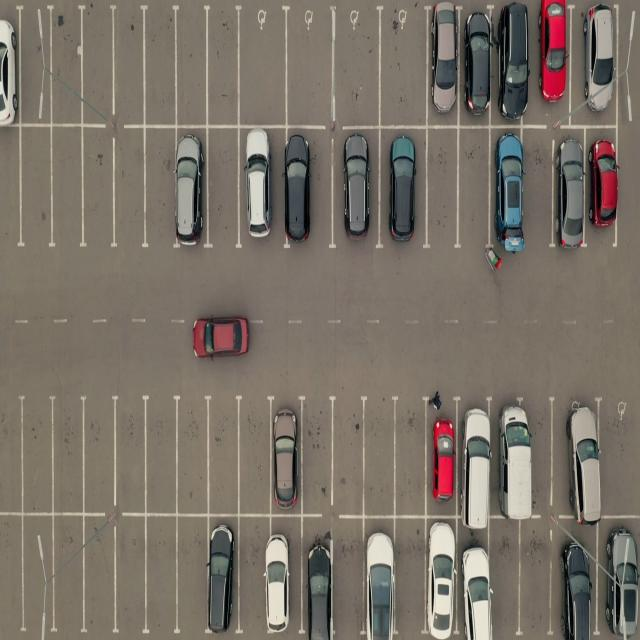space-empty: (238, 9, 289, 126), (287, 10, 337, 127), (377, 7, 425, 128), (334, 8, 381, 126), (45, 516, 87, 633), (46, 6, 86, 126), (48, 128, 86, 251), (142, 6, 180, 127), (15, 127, 52, 251), (601, 402, 640, 518), (113, 5, 150, 126), (78, 394, 116, 511), (175, 7, 212, 127), (205, 7, 242, 127), (112, 131, 149, 251), (458, 128, 494, 251), (16, 399, 54, 515), (112, 394, 150, 510), (78, 132, 115, 251), (77, 5, 114, 124), (17, 515, 54, 633), (141, 130, 177, 251), (143, 394, 180, 511), (49, 399, 86, 515), (177, 396, 214, 512), (206, 128, 242, 247), (330, 397, 367, 512), (79, 515, 115, 633), (176, 516, 212, 634), (393, 398, 429, 515), (142, 517, 178, 633), (239, 396, 275, 512), (235, 397, 271, 513), (359, 399, 395, 514), (520, 522, 556, 637), (297, 398, 333, 511), (396, 519, 430, 638), (205, 397, 240, 512), (424, 126, 457, 246), (114, 517, 148, 633), (302, 398, 337, 510), (15, 8, 48, 124), (488, 519, 520, 636), (525, 126, 555, 248), (0, 395, 24, 515), (0, 515, 24, 635), (0, 127, 22, 251)
space-occupied: (552, 396, 600, 519), (282, 130, 331, 250), (488, 128, 535, 251), (254, 513, 300, 636), (491, 398, 537, 520), (382, 124, 428, 243), (237, 124, 282, 245), (333, 130, 379, 248), (378, 130, 424, 248), (574, 1, 618, 124), (241, 129, 285, 249), (579, 4, 622, 124), (600, 519, 640, 637), (552, 534, 596, 638), (535, 1, 572, 122), (460, 400, 497, 518), (489, 128, 524, 252), (493, 5, 529, 123), (426, 6, 461, 126), (424, 397, 459, 516), (459, 518, 493, 638), (424, 518, 458, 637), (177, 130, 210, 251), (362, 517, 395, 638), (268, 396, 303, 510), (302, 522, 336, 638), (554, 130, 587, 246), (463, 8, 496, 124), (299, 519, 331, 638), (207, 516, 238, 632), (589, 131, 620, 245), (585, 127, 615, 241), (0, 6, 22, 125)
